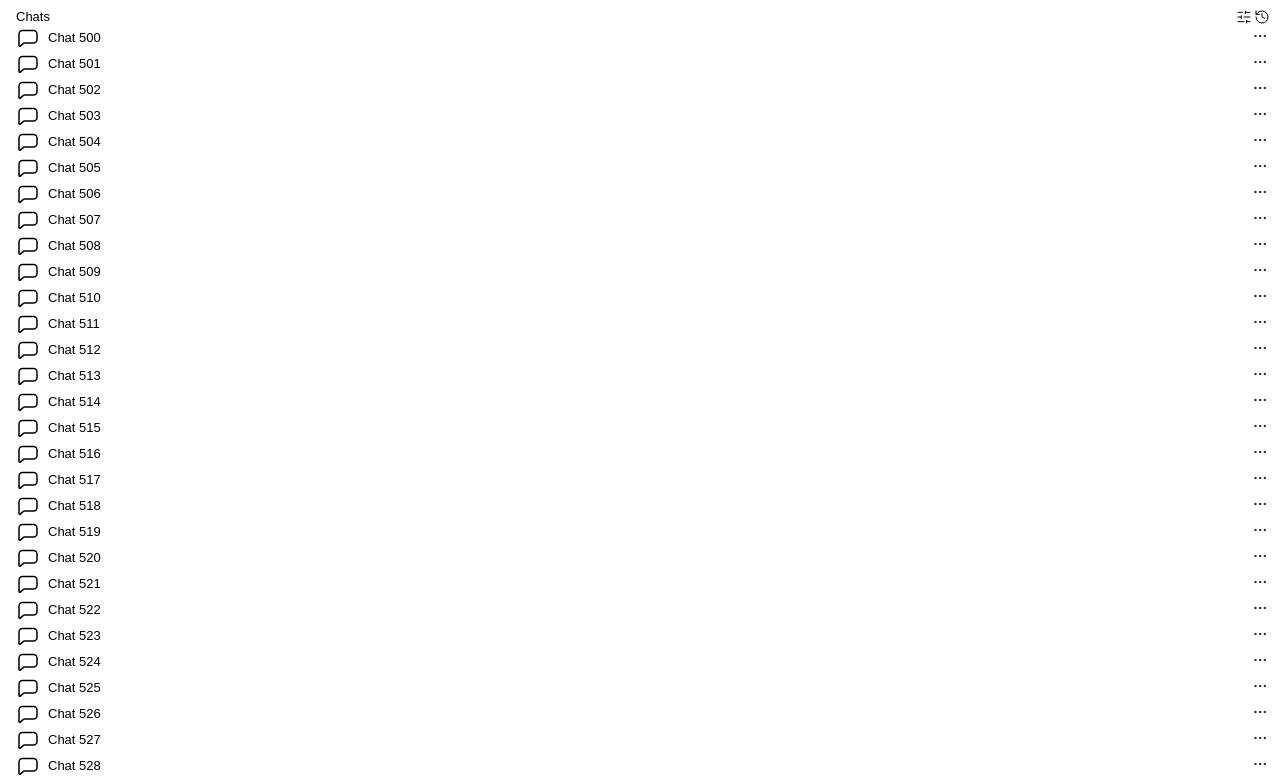
Test: a row builds what it shows on request only when asked (V1-R2-2) › builds the ⋯ menu when the ⋯ button opens it
This screenshot has width=1280, height=781.
Press the mouse on the button with test id "recent-chat-more-s498": (1260, 62) [1252, 54, 1268, 70]
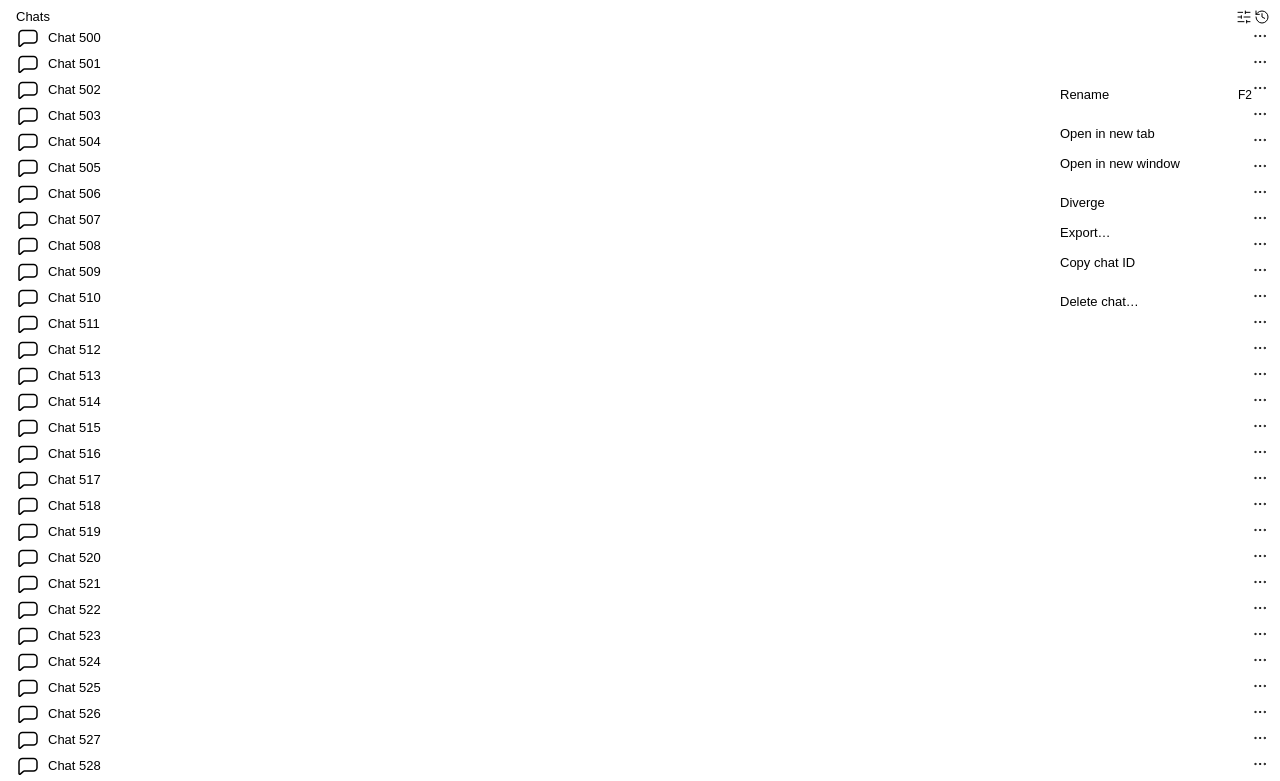
Now the menu item "Rename F2" is shown, box [1060, 87, 1252, 102]
